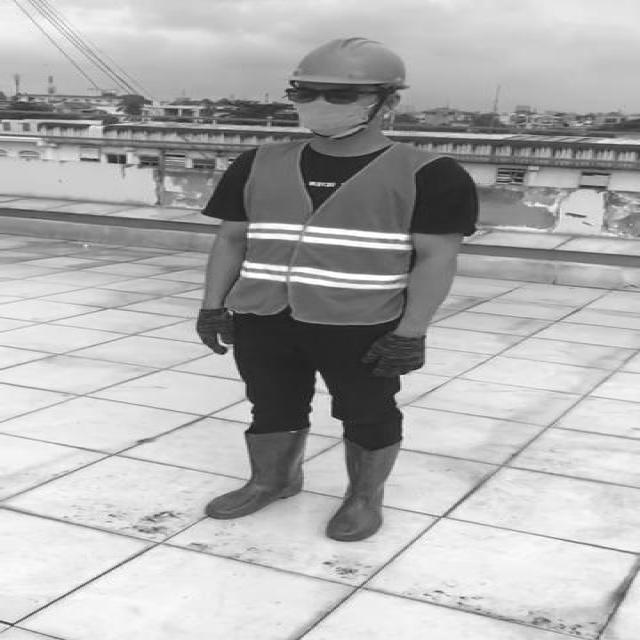boots: (204, 430, 310, 521), (322, 441, 404, 538)
hand_glove: (361, 332, 427, 377), (197, 310, 235, 356)
vest: (226, 141, 423, 323)
